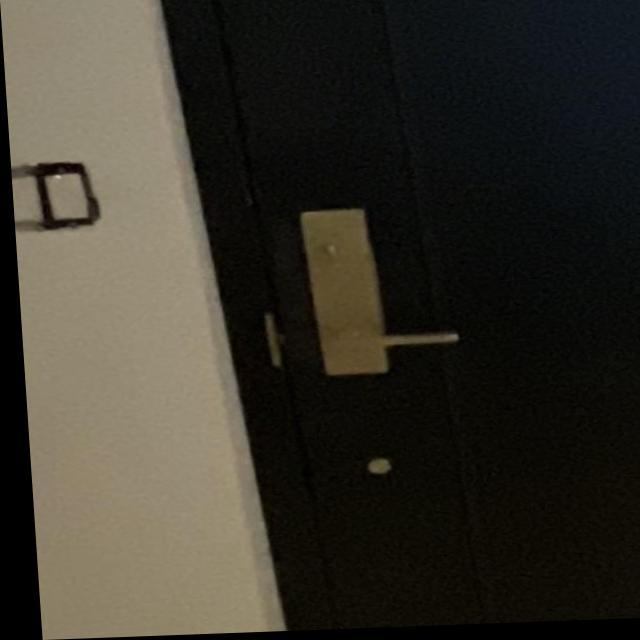door_handle: (295, 314, 471, 369)
